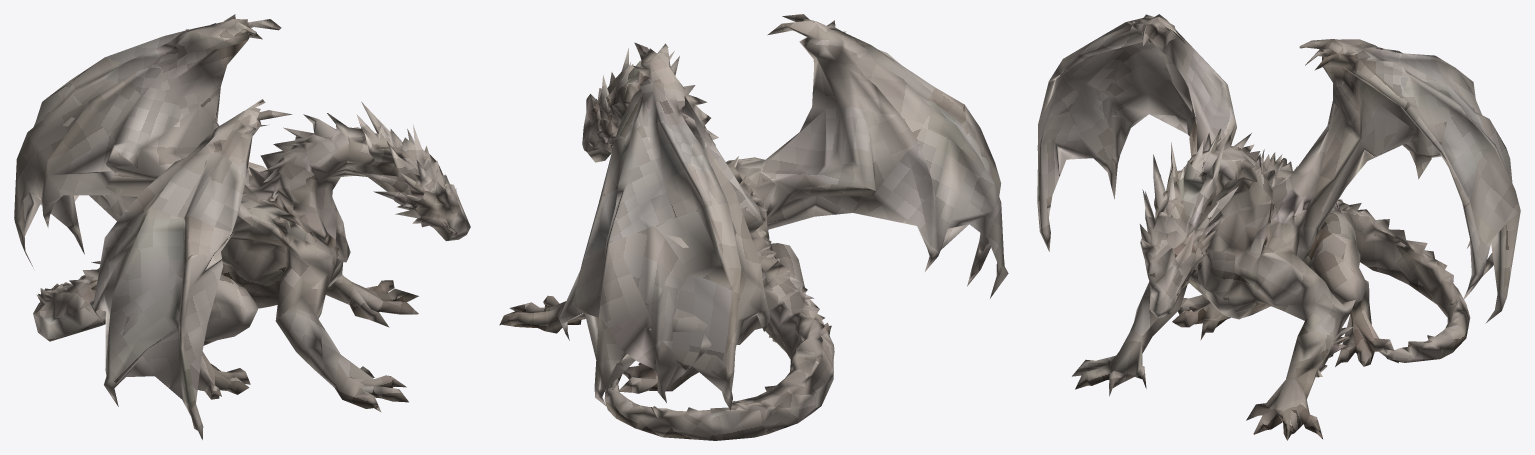
Rendered from obstacle02_lod.glb.
3 renders of one model, left to right at view 1: azimuth 30°, elevation 25°; view 2: azimuth 150°, elevation 25°; view 3: azimuth 270°, elevation 25°, orthographic. The views are drawn at different scales.
Visible parts, largest first — view 1: tripo_node_0c8c8bbc-e36c-4dc5-98a1-a932c7236504; view 2: tripo_node_0c8c8bbc-e36c-4dc5-98a1-a932c7236504; view 3: tripo_node_0c8c8bbc-e36c-4dc5-98a1-a932c7236504.
Boxes of the visible parts, x1,y1,x2,y2 form: tripo_node_0c8c8bbc-e36c-4dc5-98a1-a932c7236504: [14, 14, 470, 439]; tripo_node_0c8c8bbc-e36c-4dc5-98a1-a932c7236504: [499, 14, 1008, 440]; tripo_node_0c8c8bbc-e36c-4dc5-98a1-a932c7236504: [1037, 14, 1520, 440].
Size of the model in its own units: 0.9764 by 0.722 by 0.9731.
Materials: 1 (1 with a texture image).
